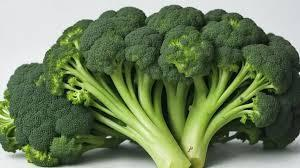broccoli: (1, 4, 299, 167)
